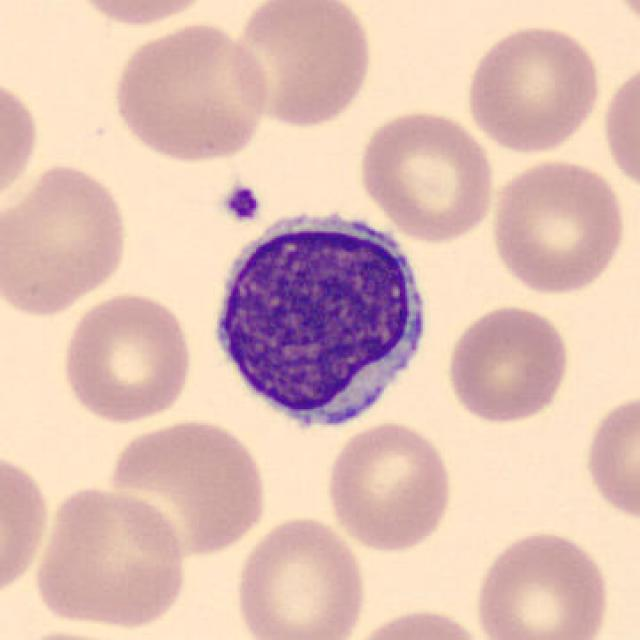Lymphocyte: (201, 196, 439, 440)
Platelets: (219, 180, 265, 227)
RBC: (30, 482, 190, 632), (108, 18, 272, 164), (105, 414, 270, 559), (0, 159, 133, 321), (486, 155, 630, 298), (354, 104, 498, 243), (460, 19, 604, 157), (226, 0, 377, 130), (57, 289, 197, 427), (322, 418, 457, 554), (231, 513, 370, 640), (442, 302, 572, 426), (471, 527, 613, 640), (0, 446, 53, 603), (580, 388, 638, 525), (0, 70, 43, 214), (599, 54, 640, 198), (339, 604, 490, 640), (64, 0, 217, 30), (5, 626, 153, 640), (602, 0, 640, 42)
